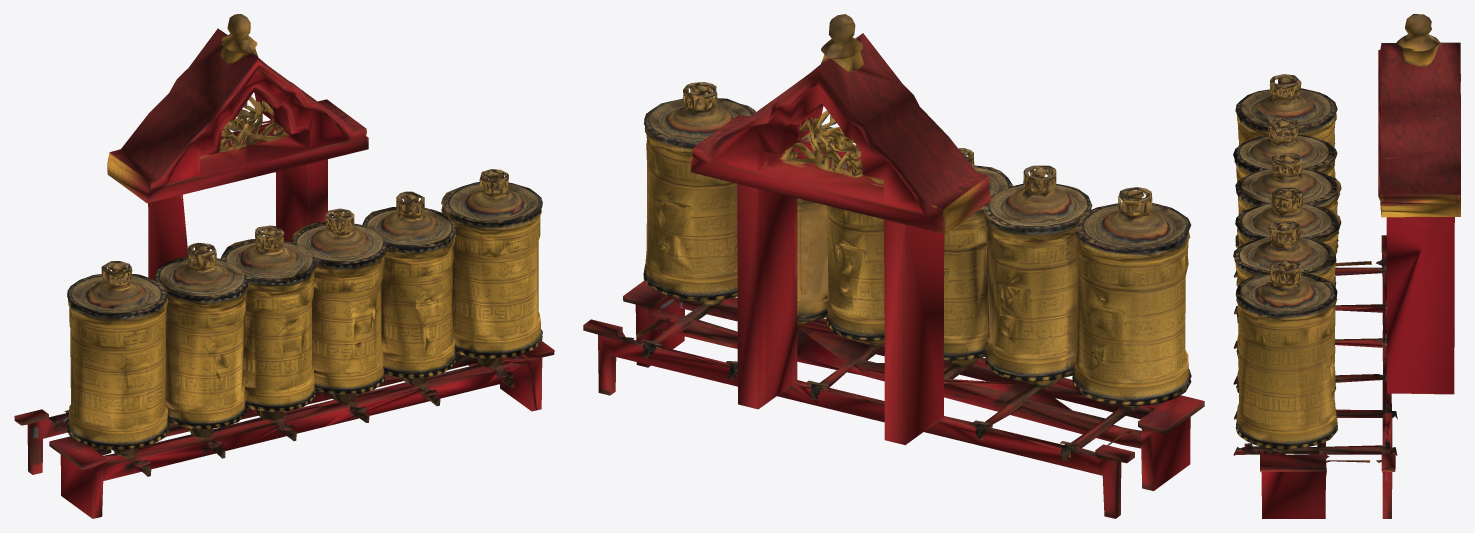
File: prayer_wheels.glb
3 renders of one model, left to right at view 1: azimuth 30°, elevation 25°; view 2: azimuth 150°, elevation 25°; view 3: azimuth 270°, elevation 25°, orthographic. The views are drawn at different scales.
Parts seen in each view (by area): view 1: Mesh_0; view 2: Mesh_0; view 3: Mesh_0.
Part boxes in pixels (bbox=[...]): Mesh_0: bbox=[14, 14, 554, 518]; Mesh_0: bbox=[583, 14, 1204, 518]; Mesh_0: bbox=[1233, 14, 1460, 518].
Size of the model in its own units: 2.78 by 2.2 by 1.15.
Materials: 1 (1 with a texture image).
